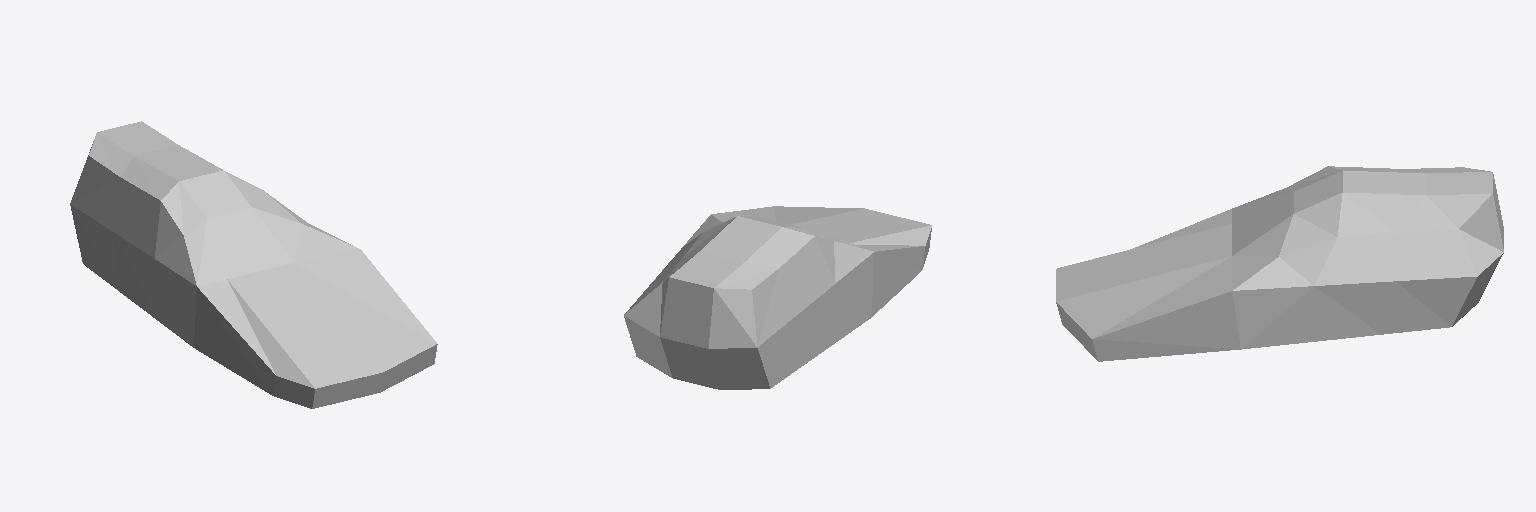
Rendered from FootL.obj.
3 views of the same model, side by side, from view 1: azimuth 30°, elevation 25°; view 2: azimuth 150°, elevation 25°; view 3: azimuth 270°, elevation 25° (orthographic).
Visible parts, largest first — view 1: FootL_Cube.017; view 2: FootL_Cube.017; view 3: FootL_Cube.017.
Boxes of the visible parts, <box> form: FootL_Cube.017: <box>70,121,437,408</box>; FootL_Cube.017: <box>624,206,931,389</box>; FootL_Cube.017: <box>1056,166,1503,361</box>.
Bounding box in the file's own units: 0.1122 × 0.077 × 0.2482.